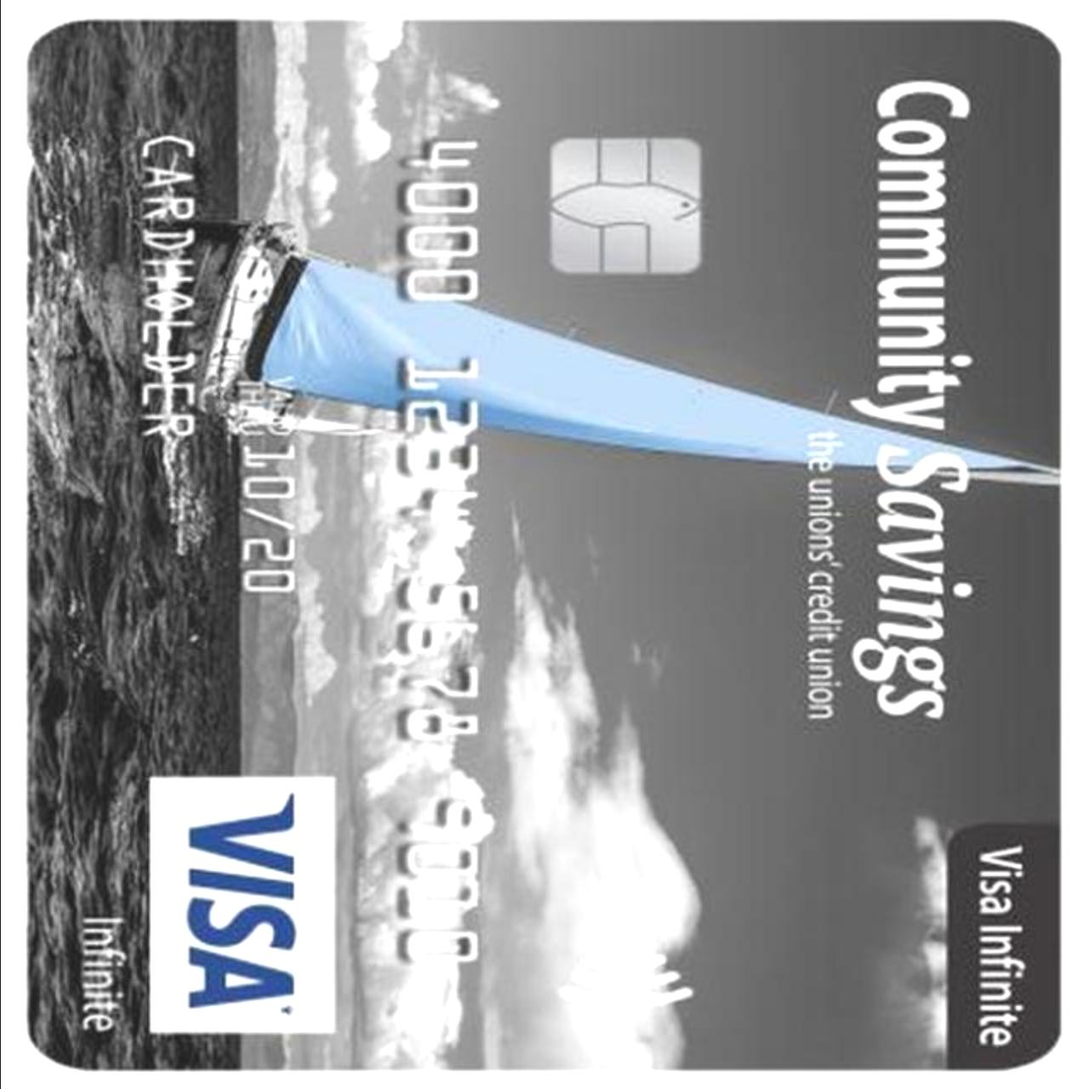credit_card: (27, 24, 1055, 1065)
